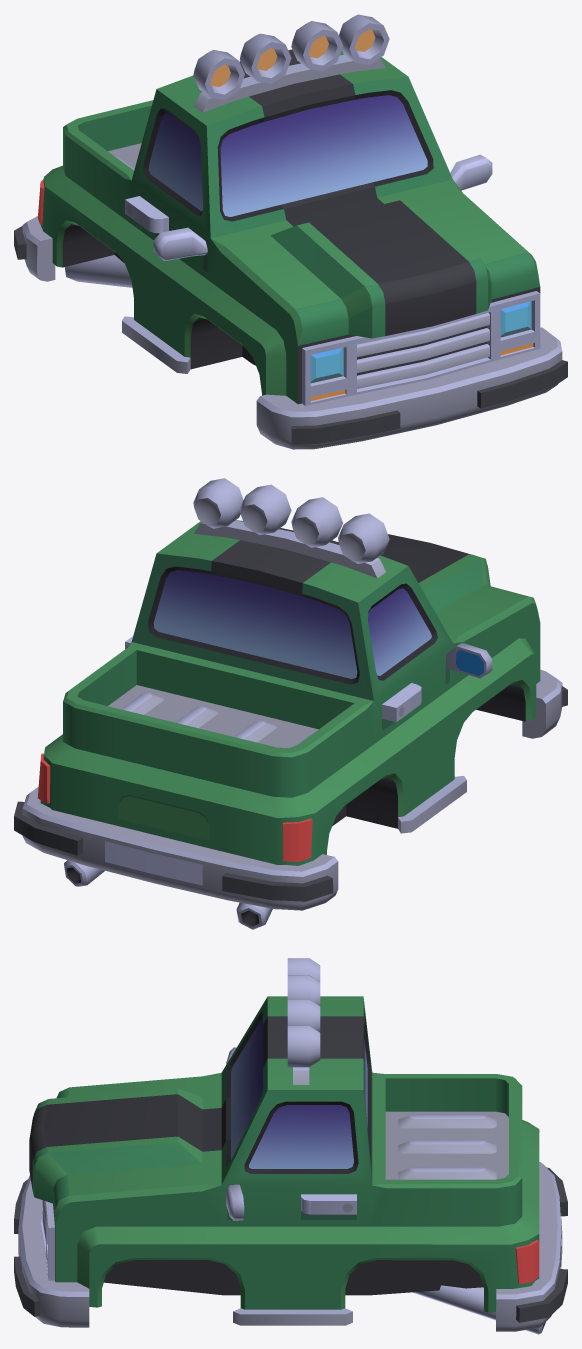
Rendered from PickupTruck_Green.fbx.
The picture shows the model from 3 angles, top to bottom: view 1: azimuth 30°, elevation 25°; view 2: azimuth 150°, elevation 25°; view 3: azimuth 270°, elevation 25°; orthographic projection. The views are drawn at different scales.
Visible parts, largest first — view 1: Car_2_Body; view 2: Car_2_Body; view 3: Car_2_Body.
Part boxes in pixels (<box>): Car_2_Body: <box>14,14,567,449</box>; Car_2_Body: <box>14,478,567,929</box>; Car_2_Body: <box>14,958,567,1334</box>.
Bounding box in the file's own units: 3.01 × 2.75 × 4.52.
